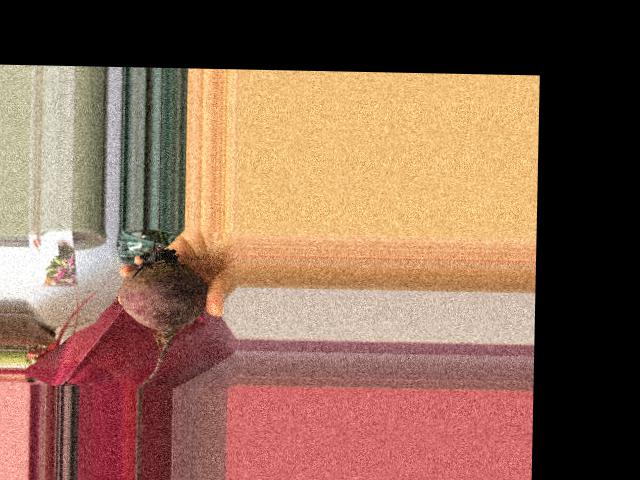beet: (116, 228, 207, 388)
